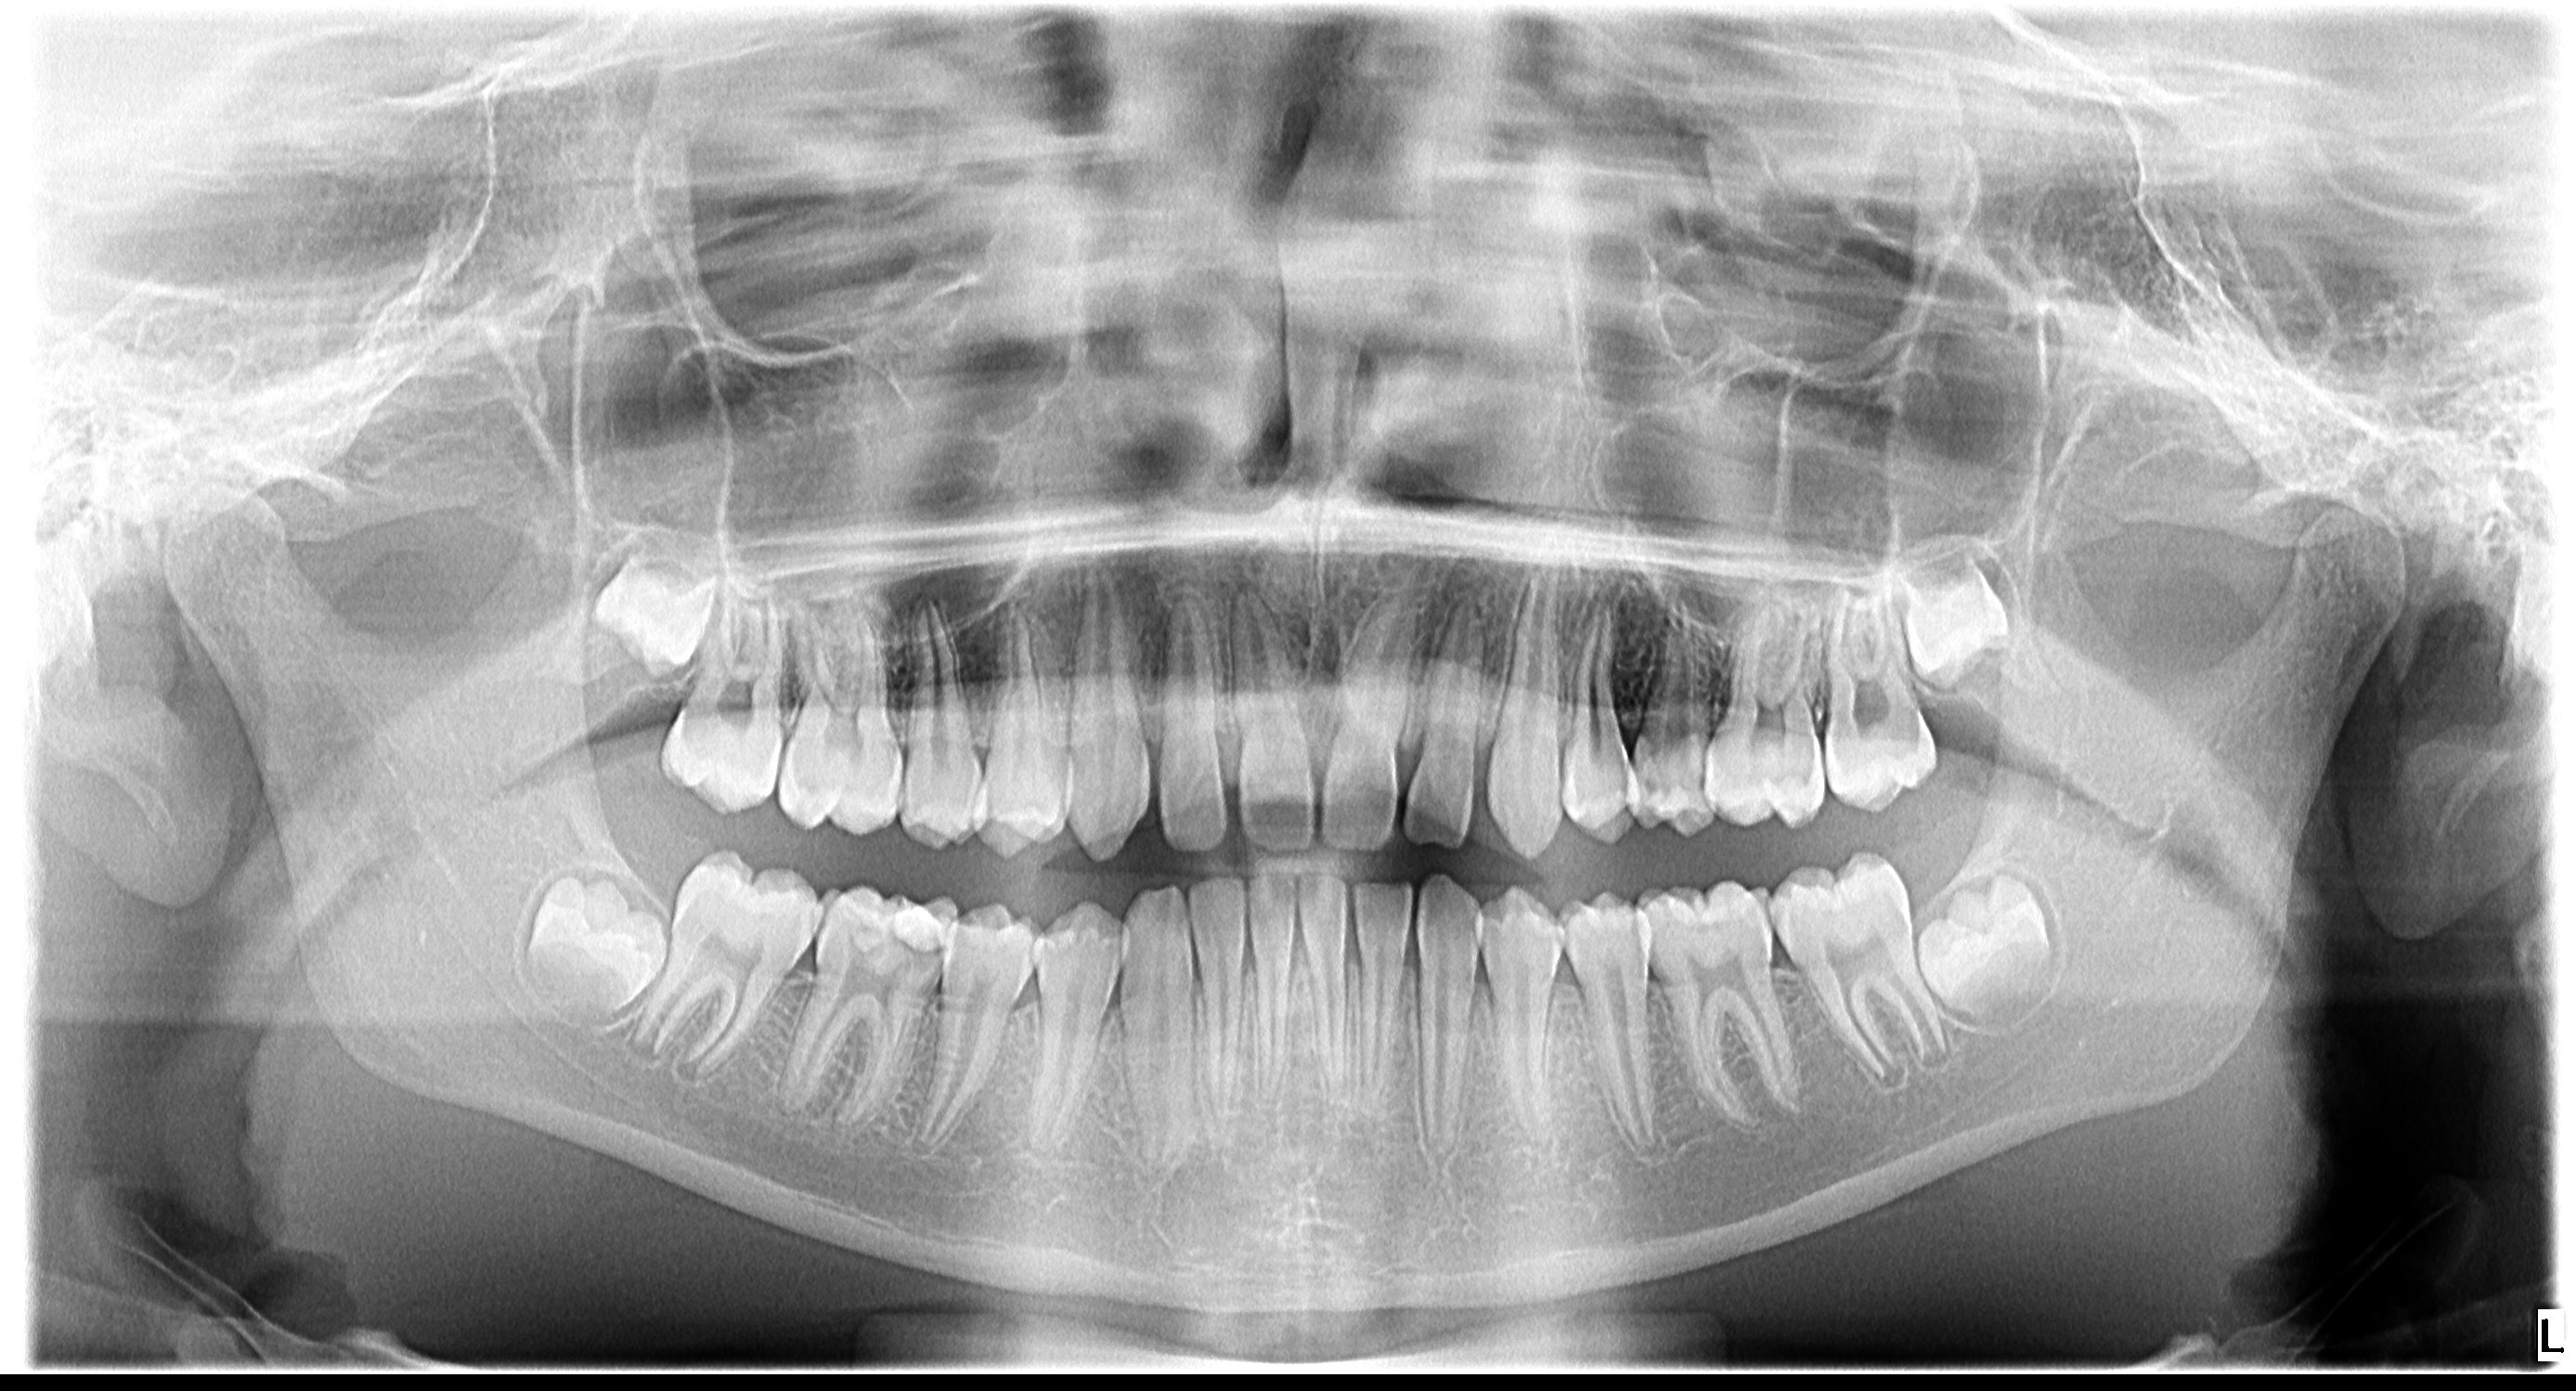IMP: (777, 356, 2487, 1184), (419, 406, 1366, 1376)
